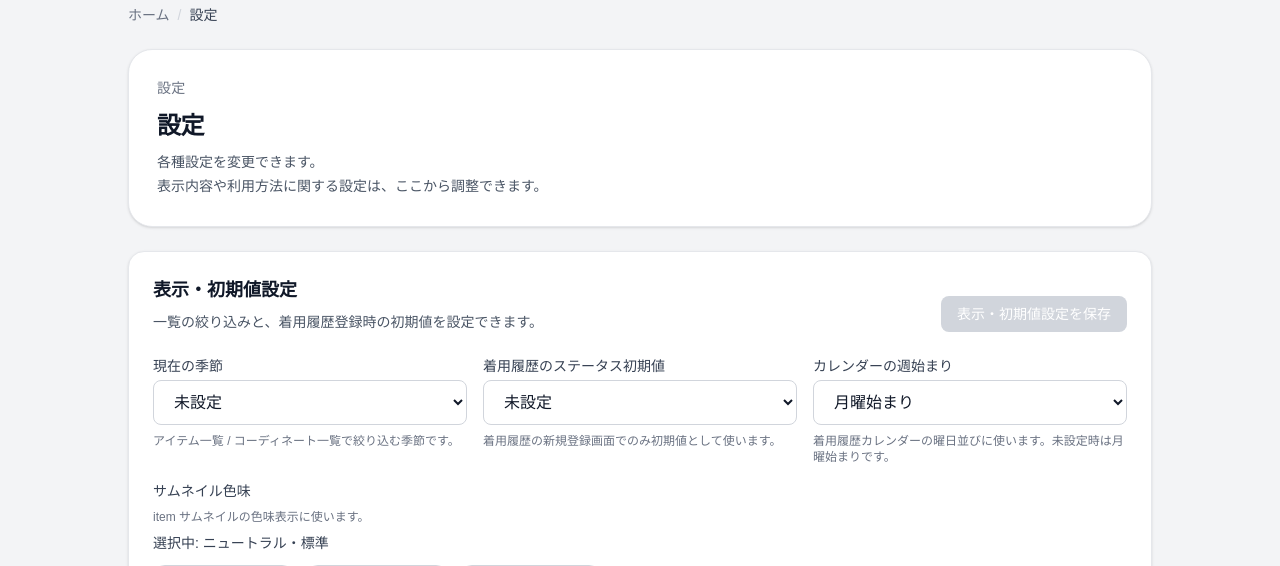
Test: SettingsPage › 表示・初期値設定を保存できる
Select "冬" in the dropdown labelled "現在の季節": (310, 402) [153,380,467,425]
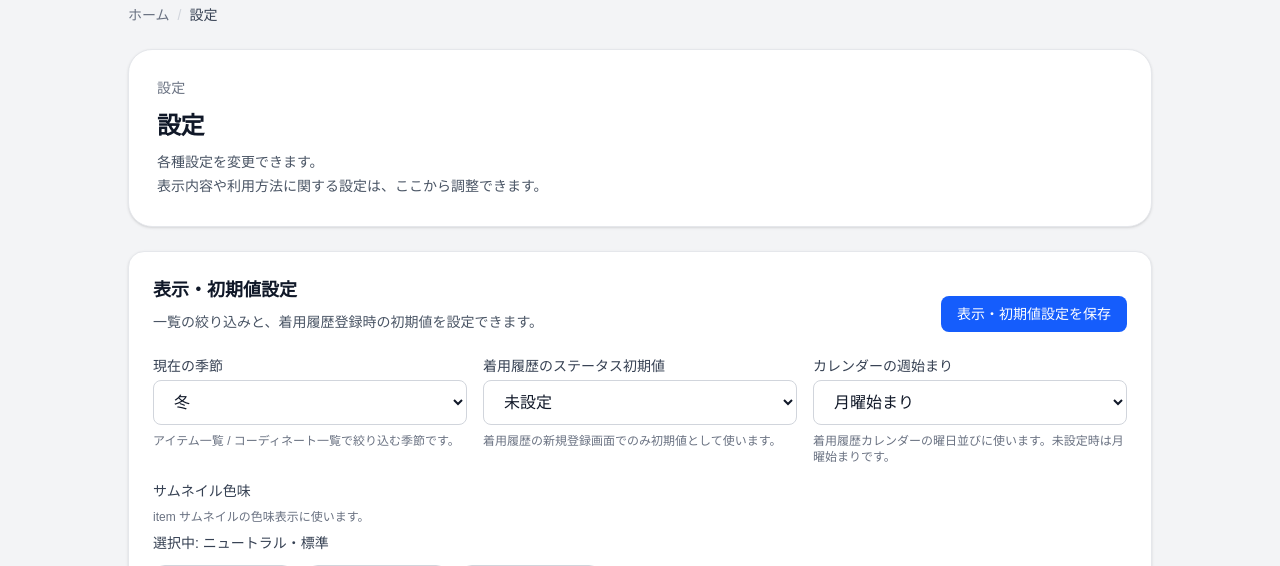
Select "予定" in the dropdown labelled "着用履歴のステータス初期値": (640, 402) [483,380,797,425]
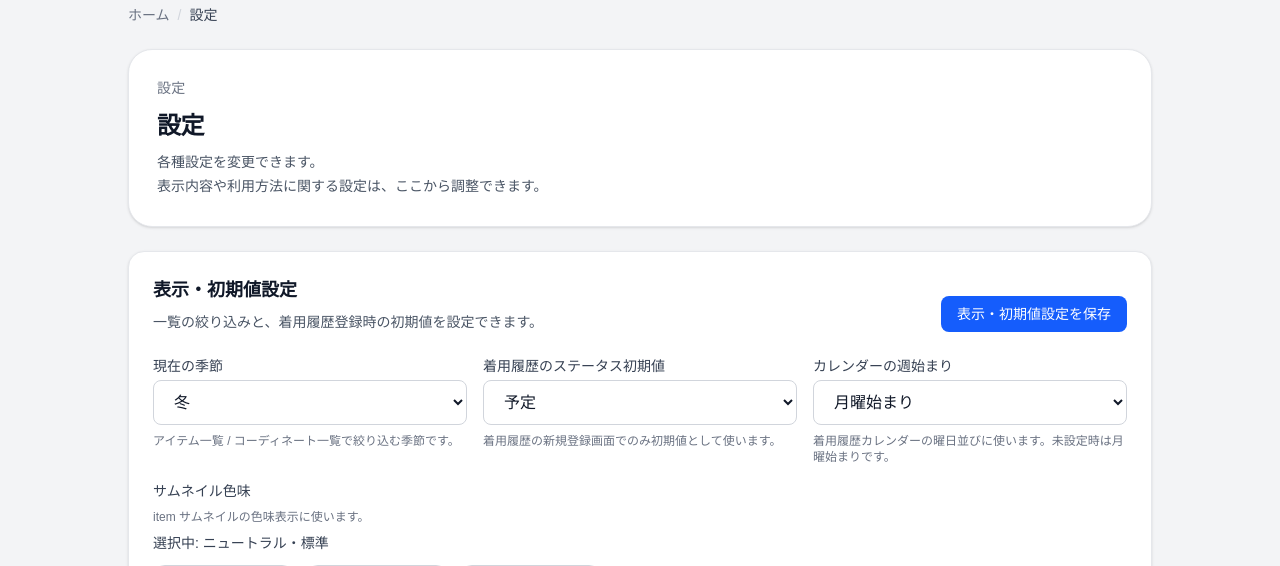
Select "日曜始まり" in the dropdown labelled "カレンダーの週始まり": (970, 402) [813,380,1127,425]
(page scrolled)
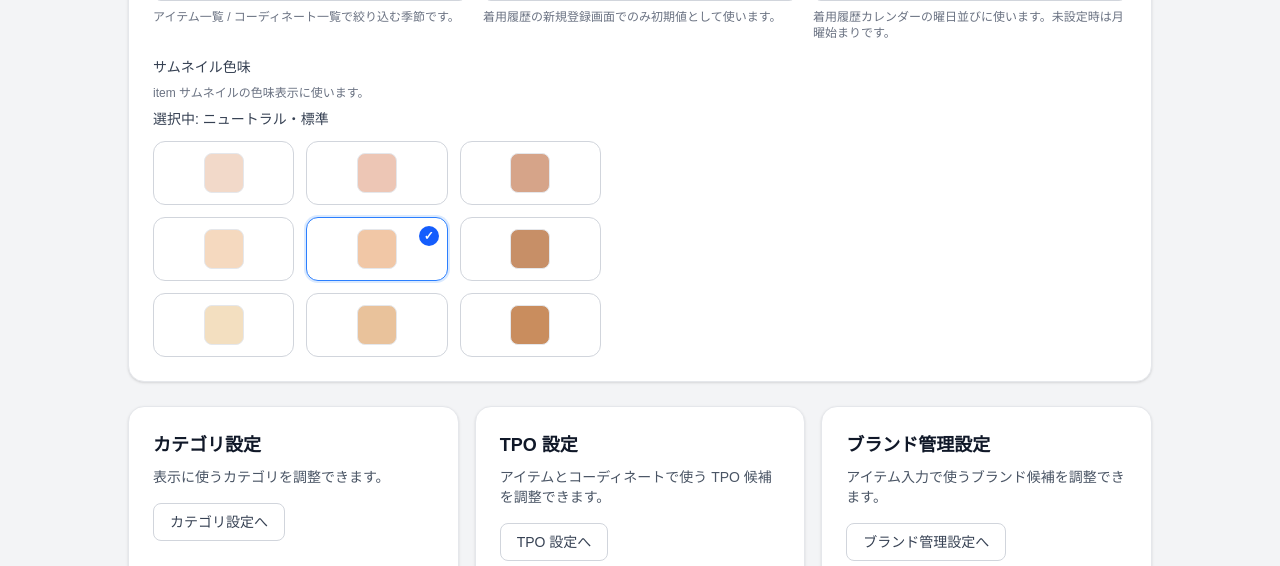
Click the button named "サムネイル色味: イエロー系・深め": (530, 325) [460,293,601,357]
(page scrolled)
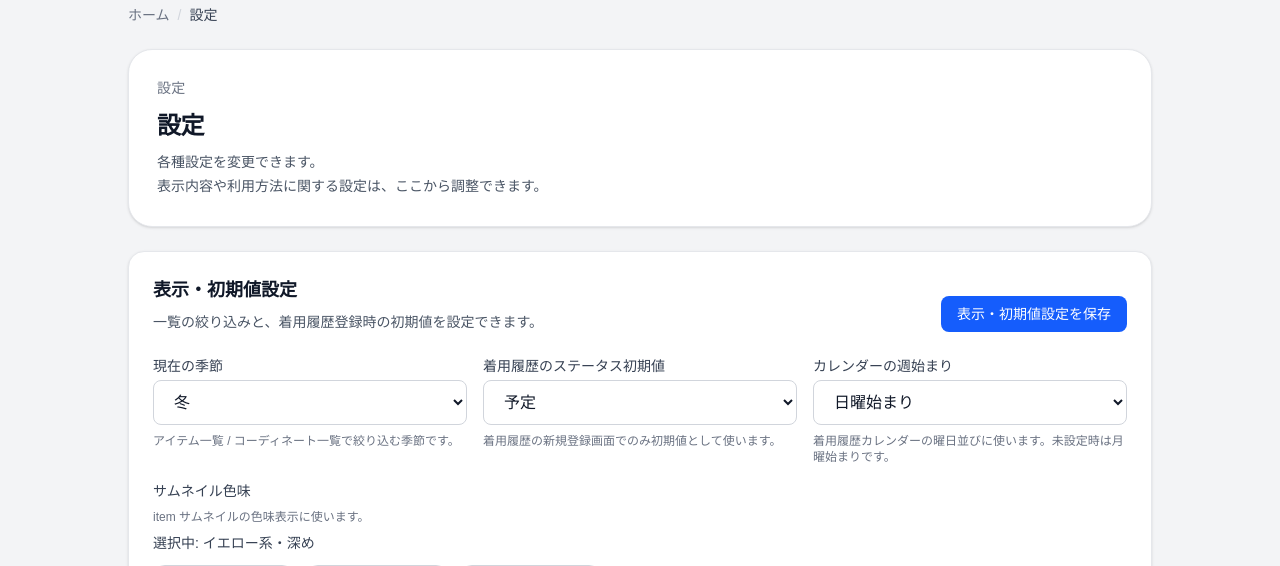
Click the button "表示・初期値設定を保存": (1034, 314) [941,296,1127,332]
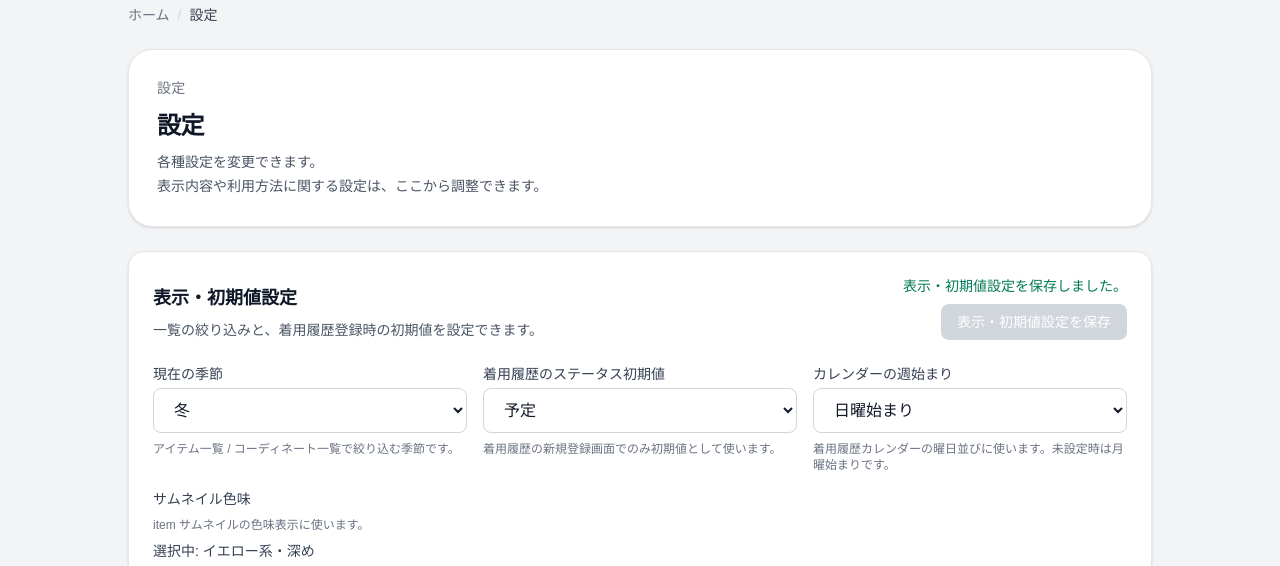
Check: the text "表示・初期値設定を保存しました。" is shown, box [903,276,1127,296]
